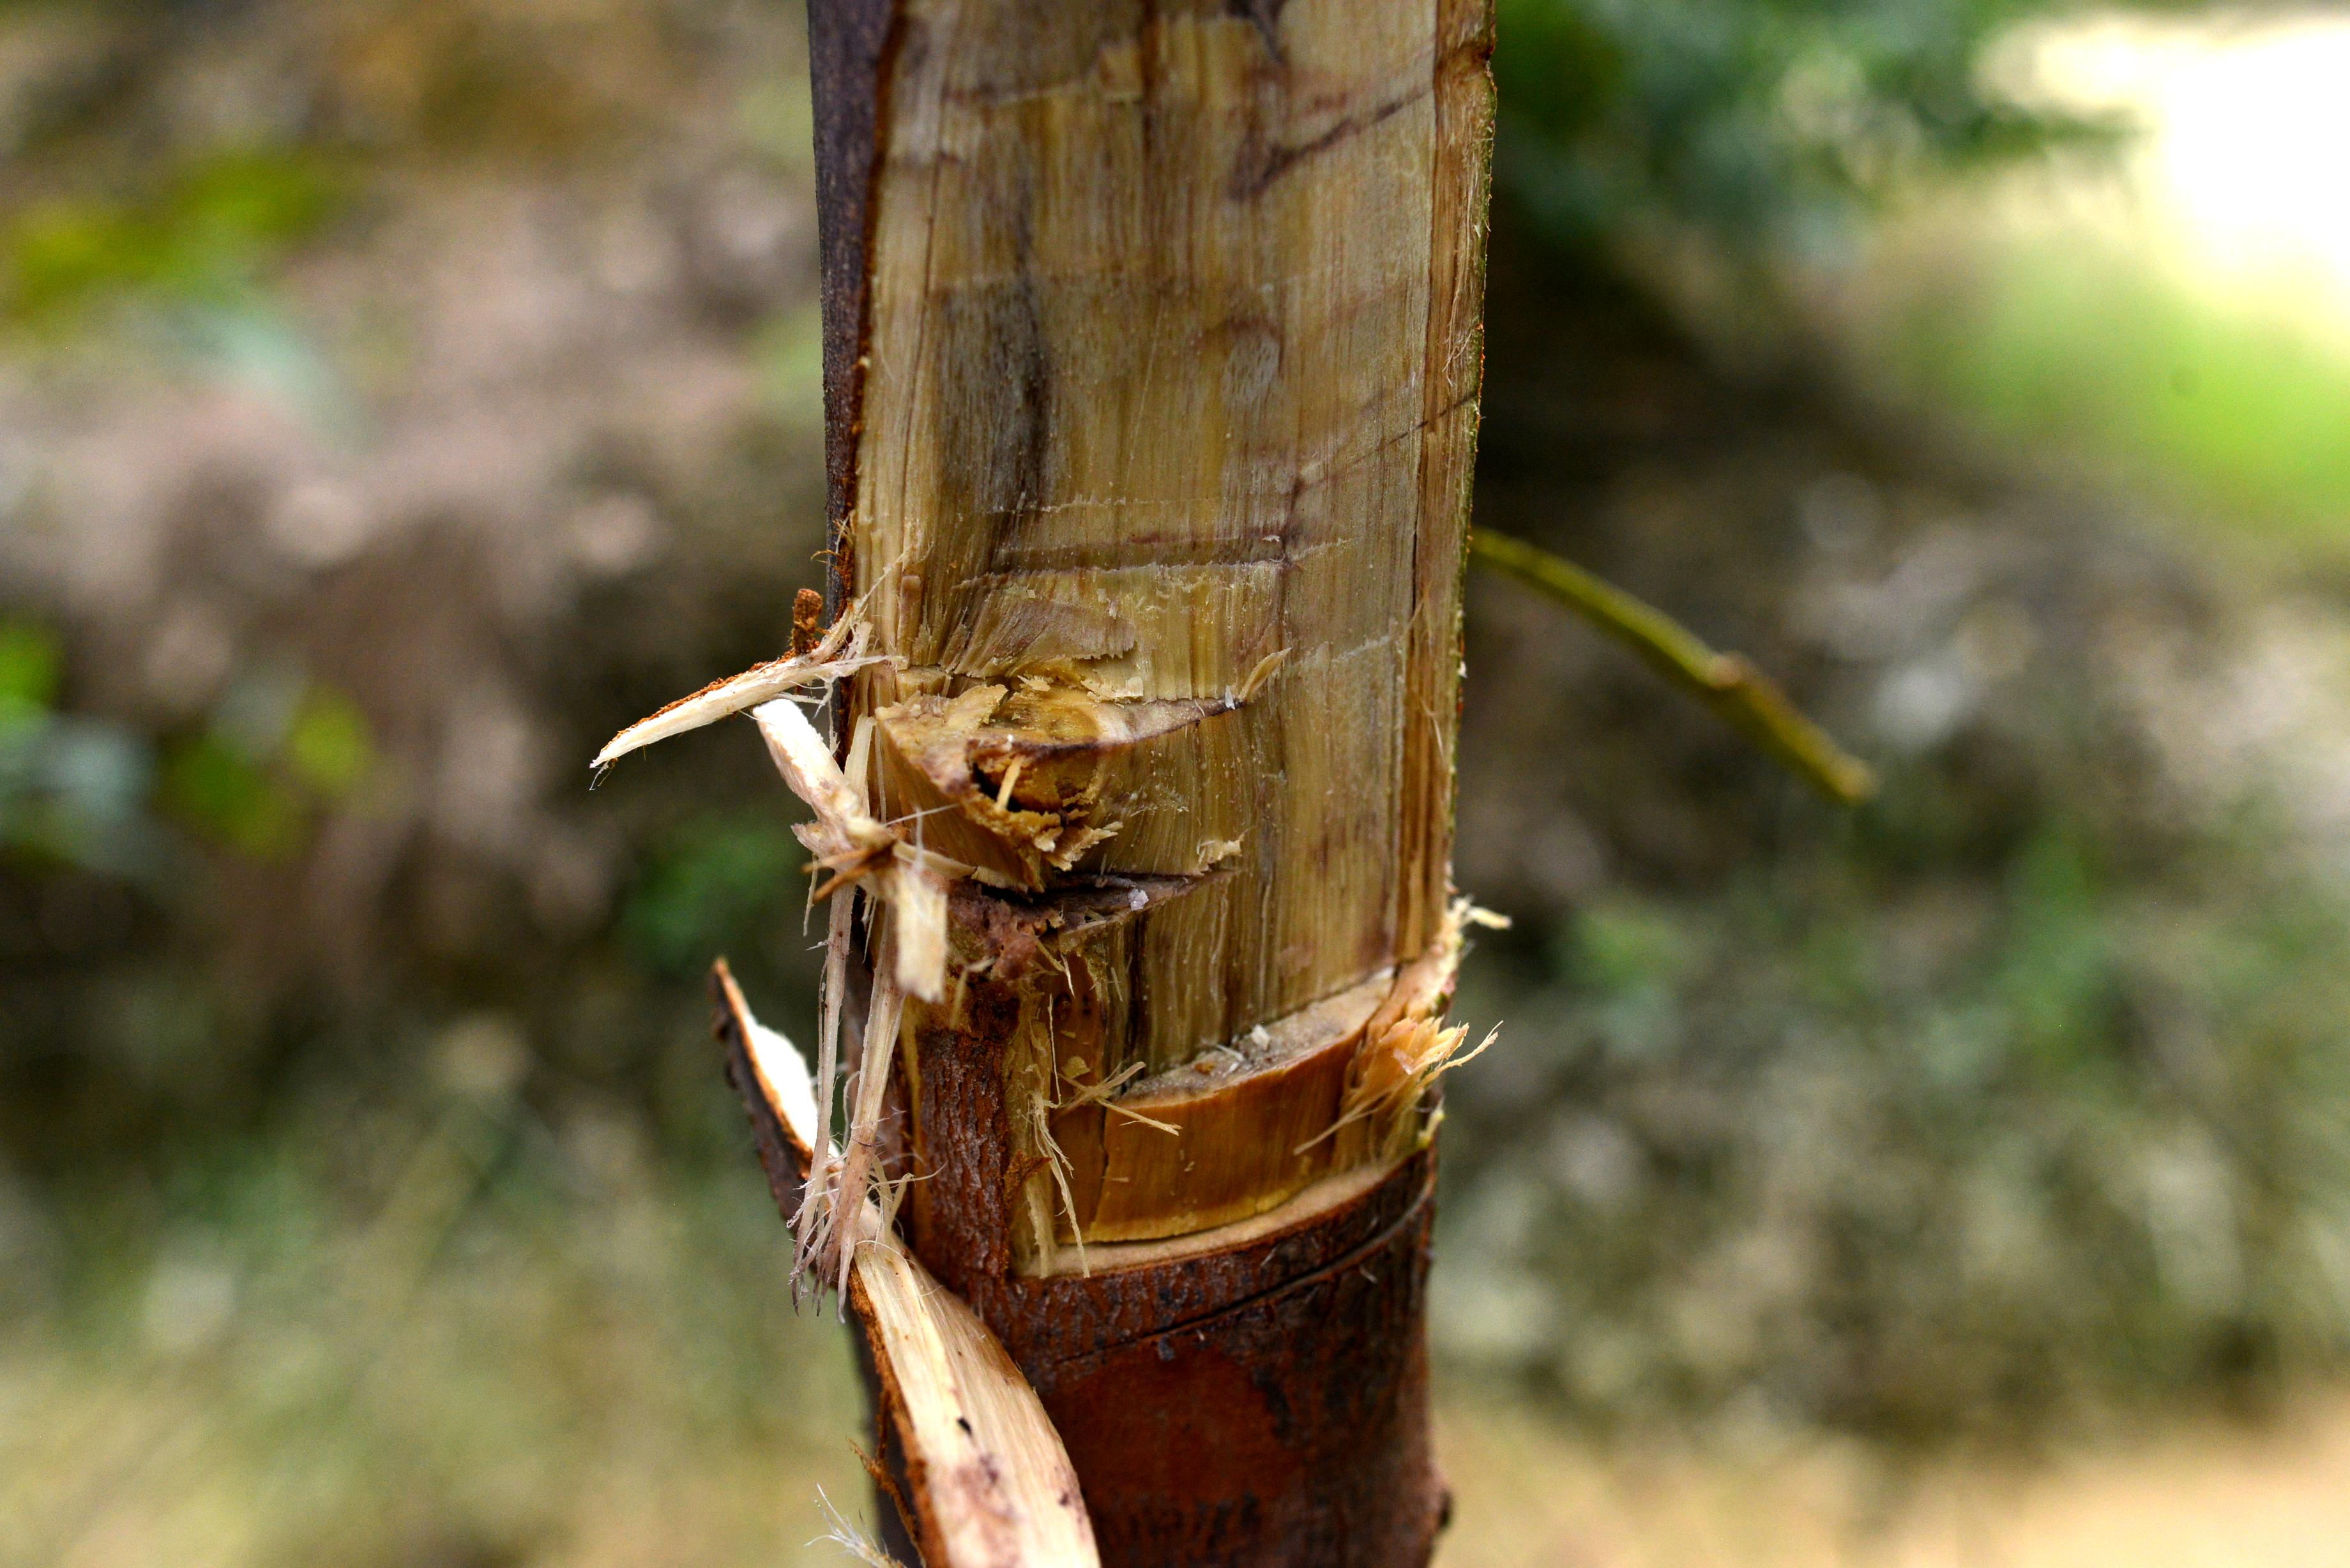Ralstonia: (889, 0, 1426, 1241)
